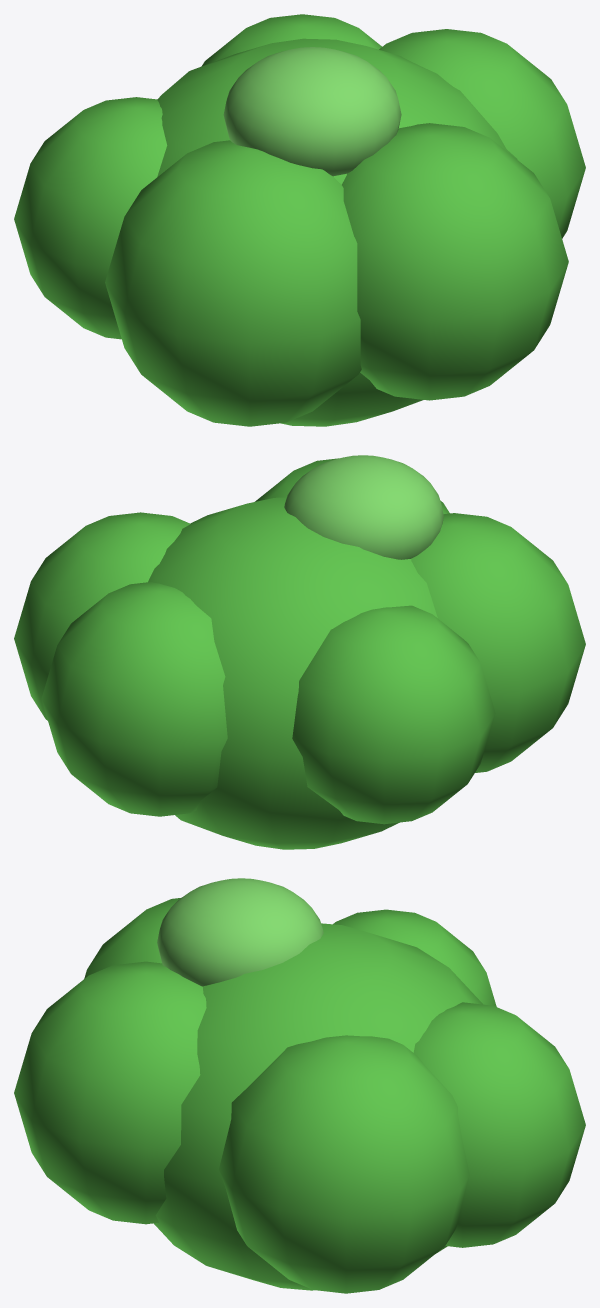
The model's file is bush.glb.
3 views of the same model, one above another, from view 1: azimuth 30°, elevation 25°; view 2: azimuth 150°, elevation 25°; view 3: azimuth 270°, elevation 25° (orthographic). The views are drawn at different scales.
Parts seen in each view (by area): view 1: bush; view 2: bush; view 3: bush.
Boxes of the visible parts, x1,y1,x2,y2 form: bush: [14, 14, 585, 426]; bush: [14, 455, 585, 849]; bush: [14, 878, 585, 1293].
Size of the model in its own units: 0.8051 by 0.569 by 0.8145.
